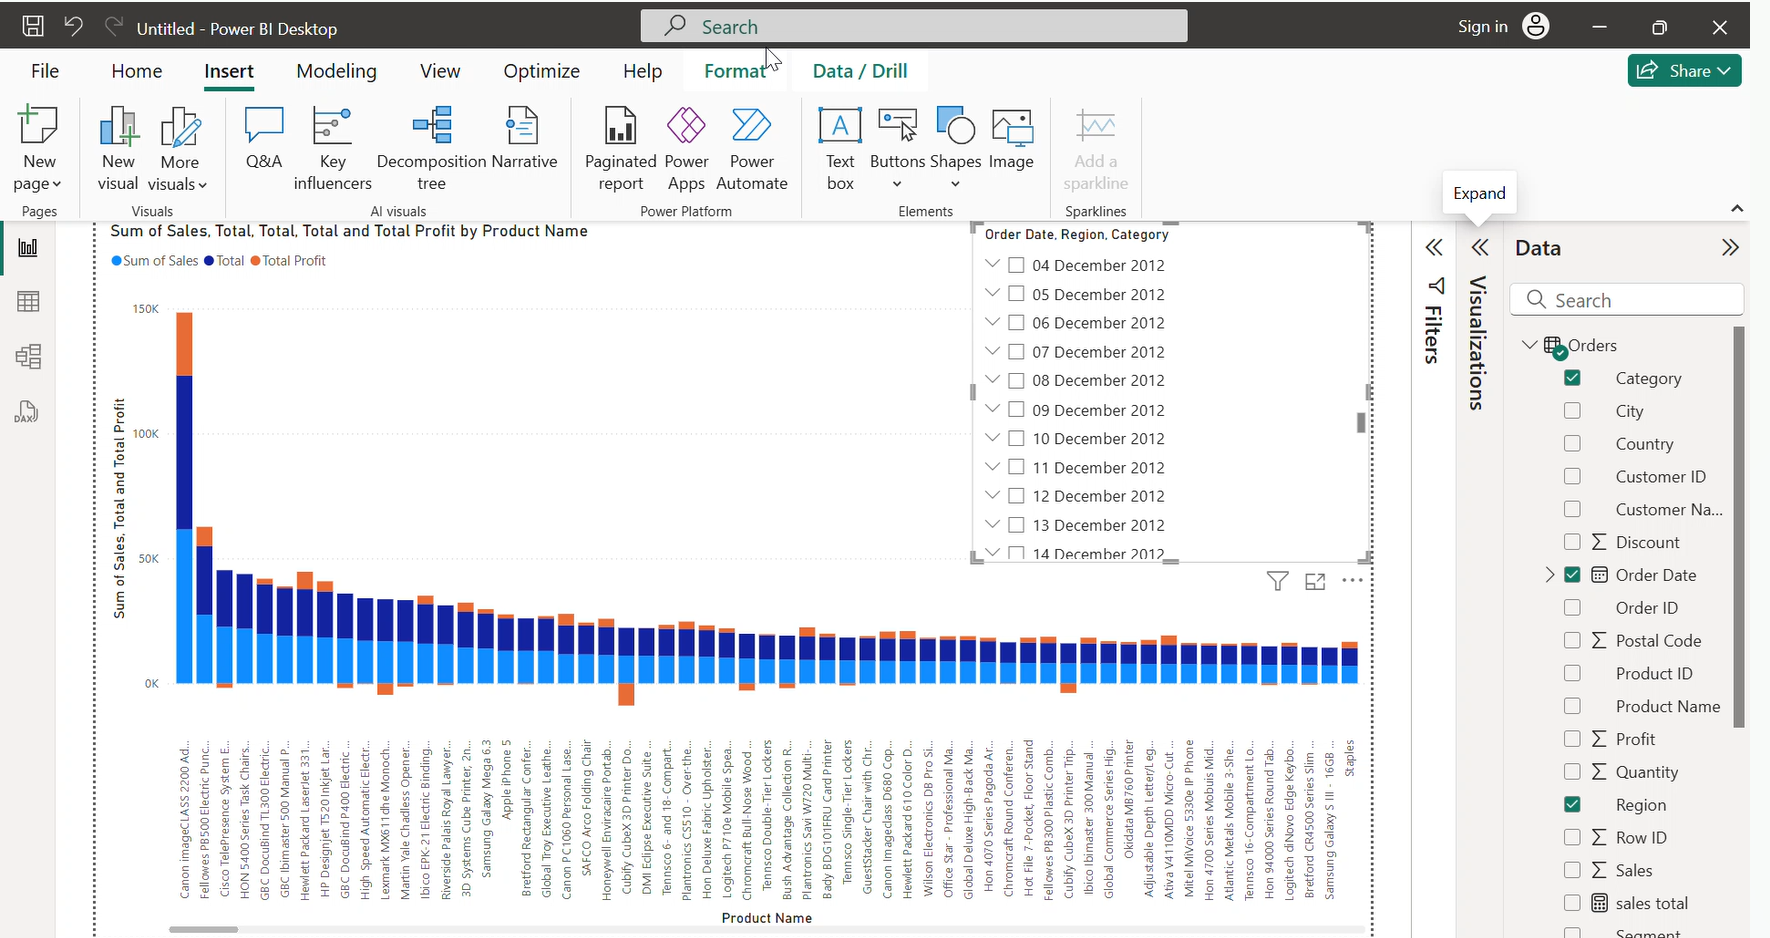

This screenshot's page, from the dashboard's own definition file:
{"tool":"powerbi","page":{"name":"Page 1","canvas":[1280,720],"ordinal":0},"visuals":[{"type":"columnChart","fields":{"Category":["Orders.Product Name"],"Y":["Sum(Orders.Sales)","Orders.Total","Orders.Total","Orders.Total","Orders.Total Profit"]},"box":[9.4,0,1269.9,720],"z":0},{"type":"slicer","fields":{"Values":["Orders.Order Date","Orders.Region","Orders.Category"]},"box":[879.8,0,399.8,343.7],"z":1}]}

Visuals, with their boxes in screenshot pixels (x1, y1, x2, y2):
columnChart - Orders.Product Name x Sum(Orders.Sales): Rect(168, 41, 1738, 932)
slicer - Orders.Order Date x Orders.Region: Rect(1244, 41, 1739, 466)
